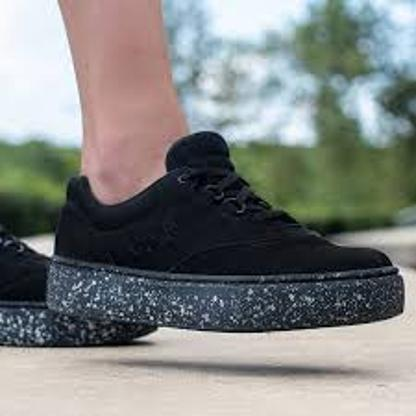not trash: (46, 133, 407, 329), (0, 192, 157, 344)
